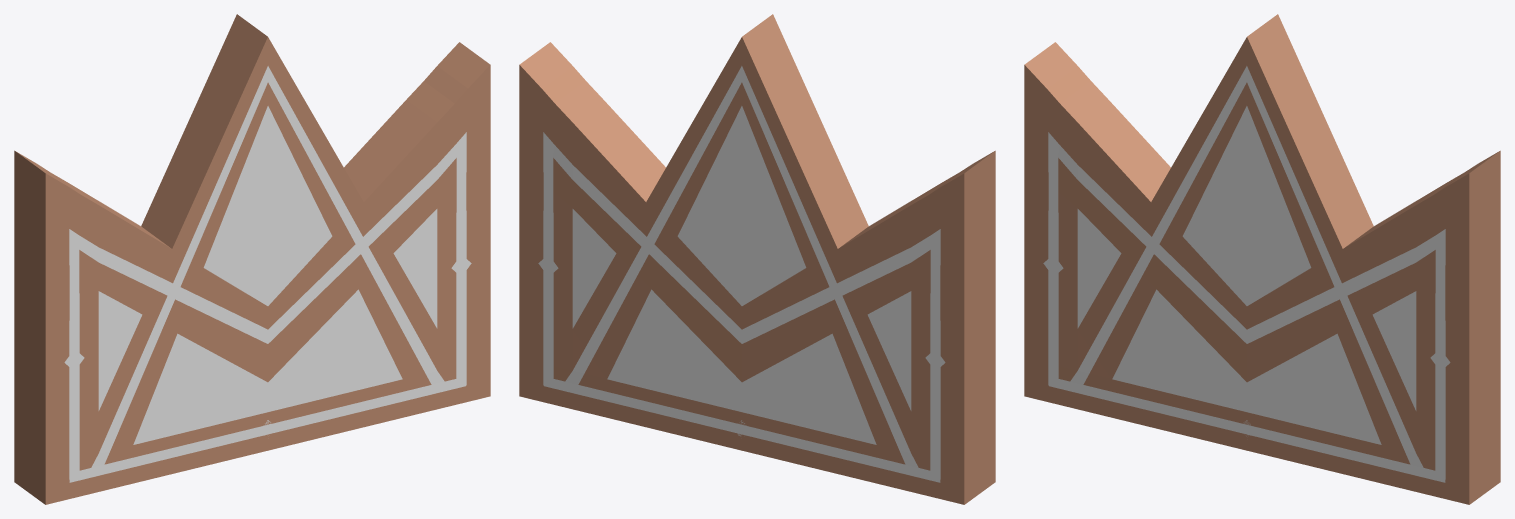
File: asset.glb
The picture shows the model from 3 angles, left to right: view 1: azimuth 30°, elevation 25°; view 2: azimuth 150°, elevation 25°; view 3: azimuth 330°, elevation 25°; orthographic projection.
Parts seen in each view (by area): view 1: Plane; view 2: Plane; view 3: Plane.
Boxes of the visible parts, x1,y1,x2,y2 form: Plane: (14,14,490,504); Plane: (519,14,995,504); Plane: (1024,14,1500,504).
Bounding box in the file's own units: 2 × 1.78 × 0.2422.
